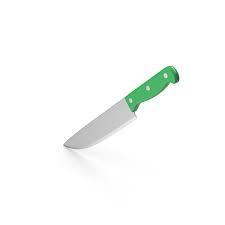Knife: (62, 64, 179, 149)
